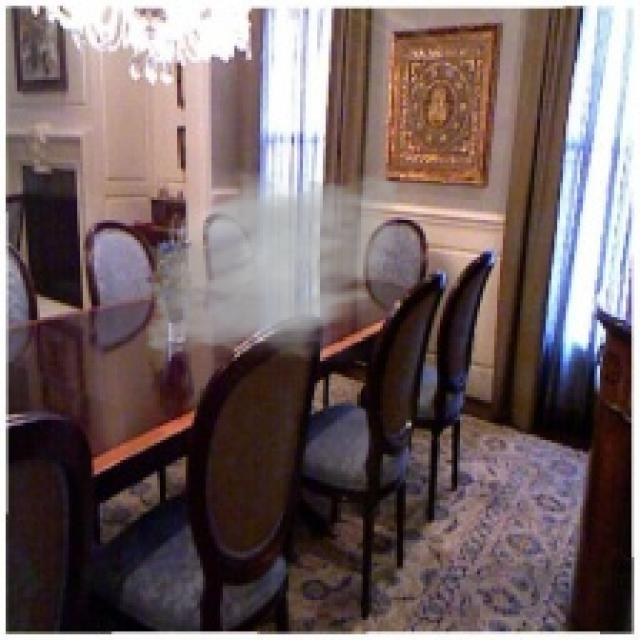Smoke: (134, 160, 412, 374)
